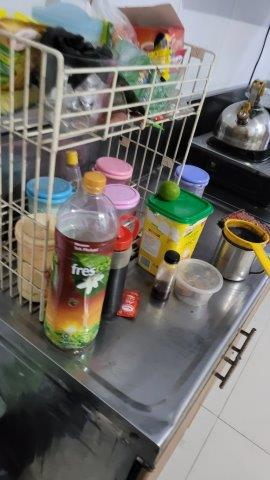botolplastik: (44, 171, 118, 351)
